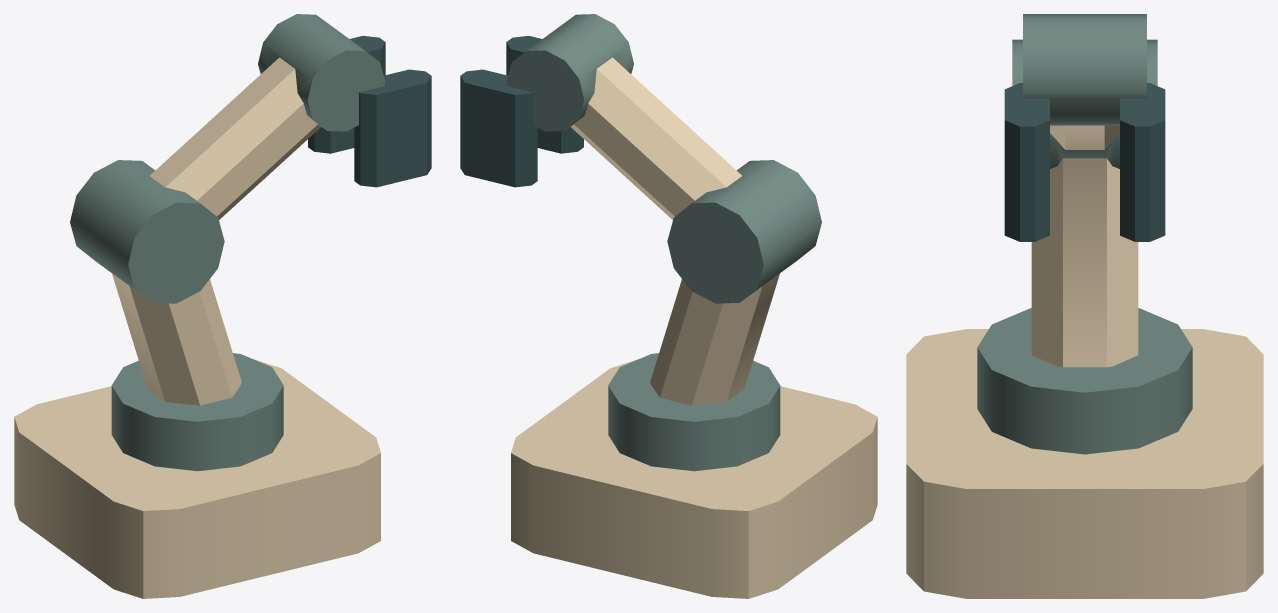
Rendered from robot-arm.glb.
The picture shows the model from 3 angles, left to right: view 1: azimuth 30°, elevation 25°; view 2: azimuth 150°, elevation 25°; view 3: azimuth 270°, elevation 25°; orthographic projection. The views are drawn at different scales.
Visible parts, largest first — view 1: robot-arm; view 2: robot-arm; view 3: robot-arm.
Boxes of the visible parts, left/top/right/bottom form: robot-arm: left=14, top=14, right=431, bottom=598; robot-arm: left=460, top=14, right=877, bottom=598; robot-arm: left=906, top=14, right=1263, bottom=598.
Bounding box in the file's own units: 1.62 × 2.1 × 1.18.
1 material, 1 textured.
